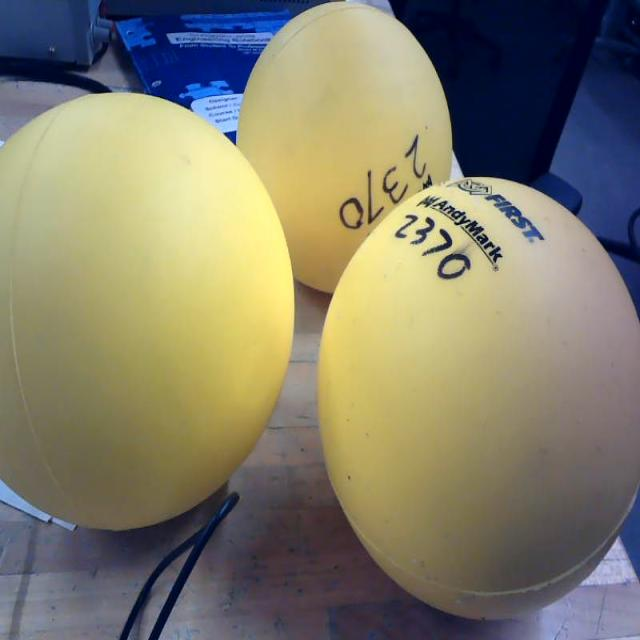Fuel: (317, 175, 640, 620), (0, 90, 294, 531), (235, 2, 452, 294)
